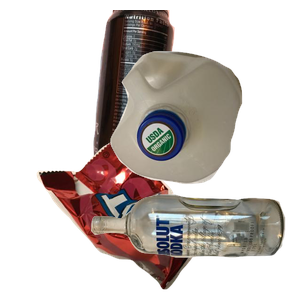glass: (88, 192, 300, 300)
metal: (91, 10, 258, 188)
plastic: (108, 49, 300, 226)
trash: (34, 136, 253, 300)
